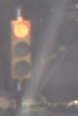Red: (9, 13, 35, 83)
